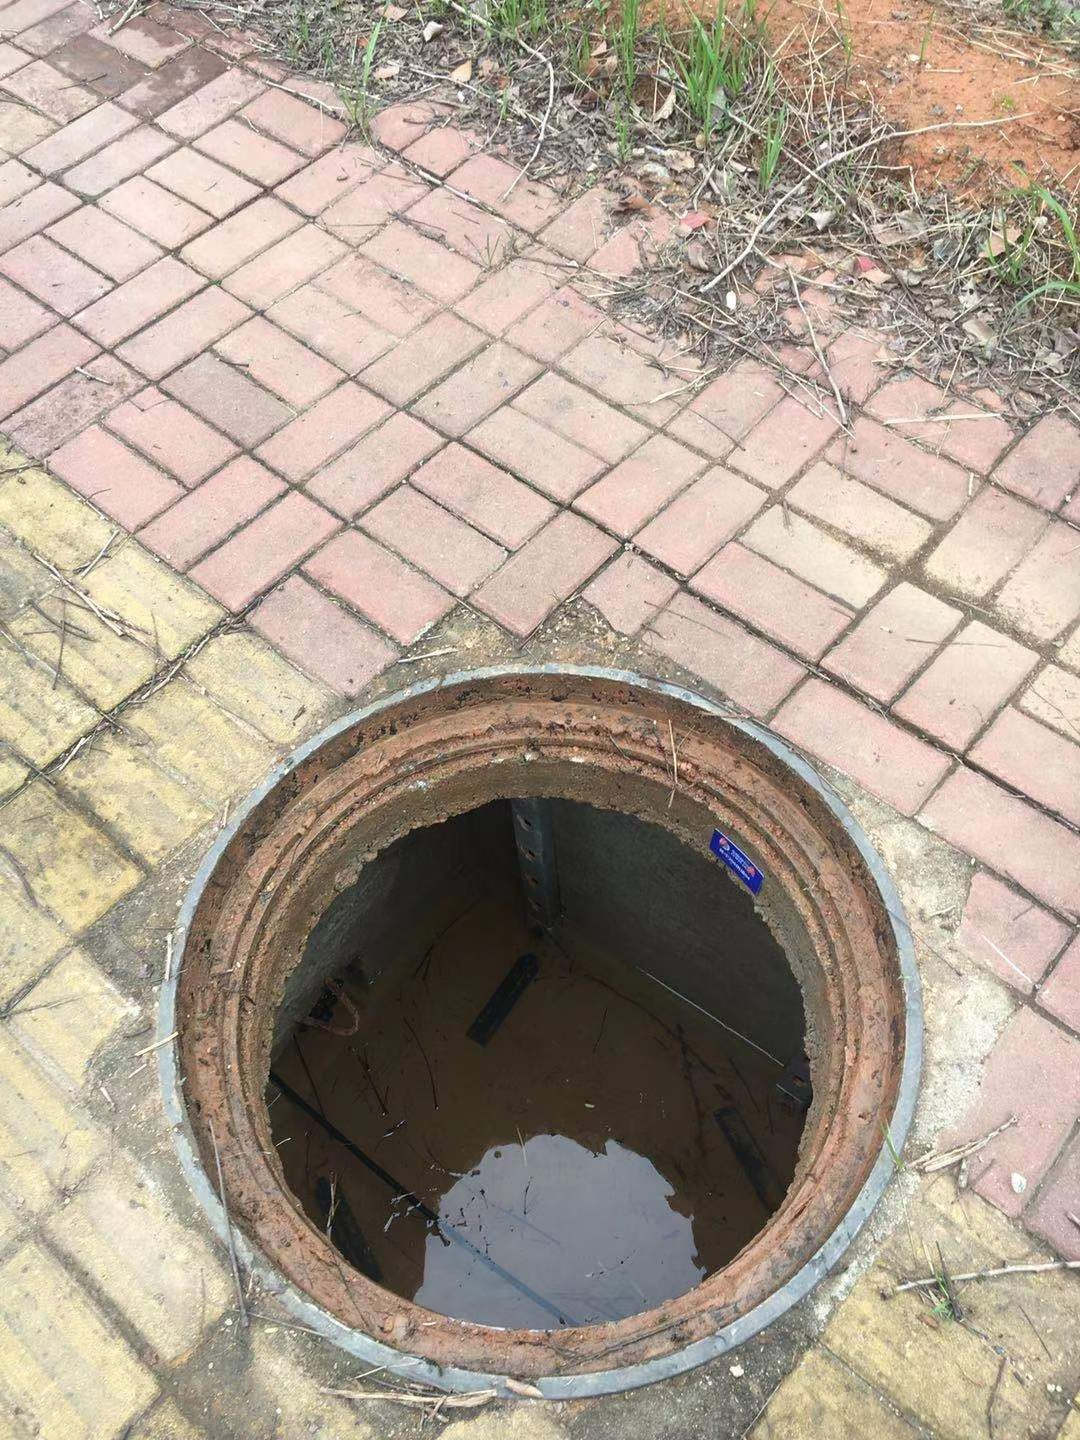well: (150, 655, 935, 1398)
